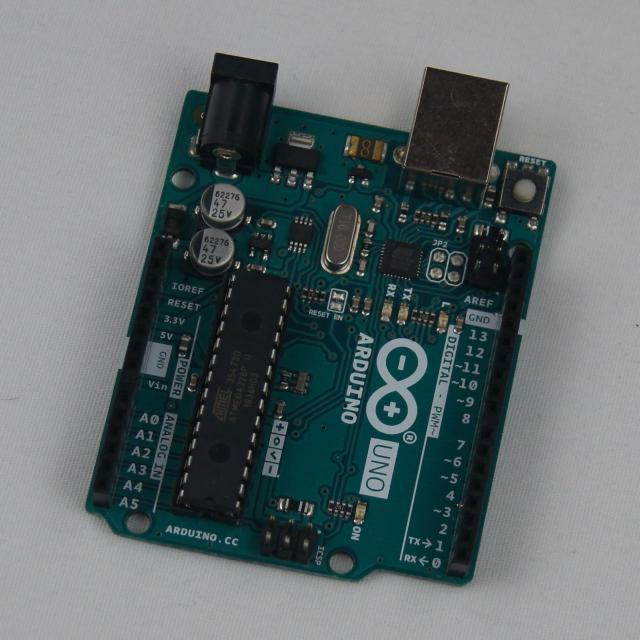Arduino Uno -Green-: (87, 54, 555, 584)
